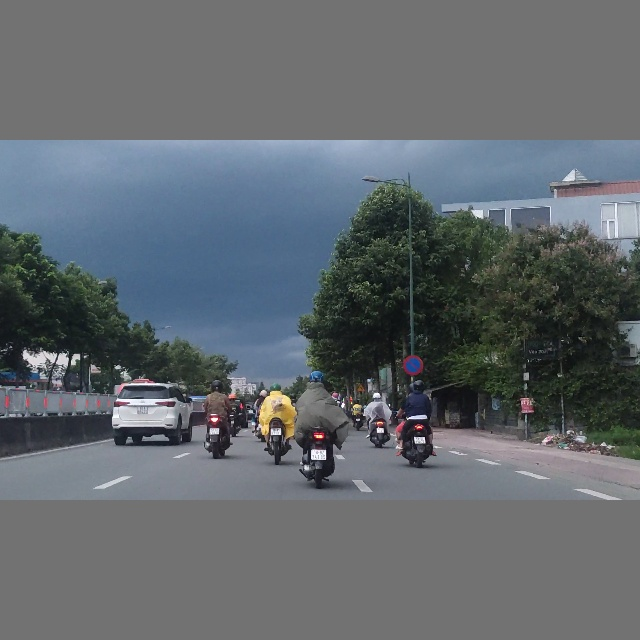P.131a: (403, 355, 423, 376)
W.201a: (356, 383, 365, 391)
